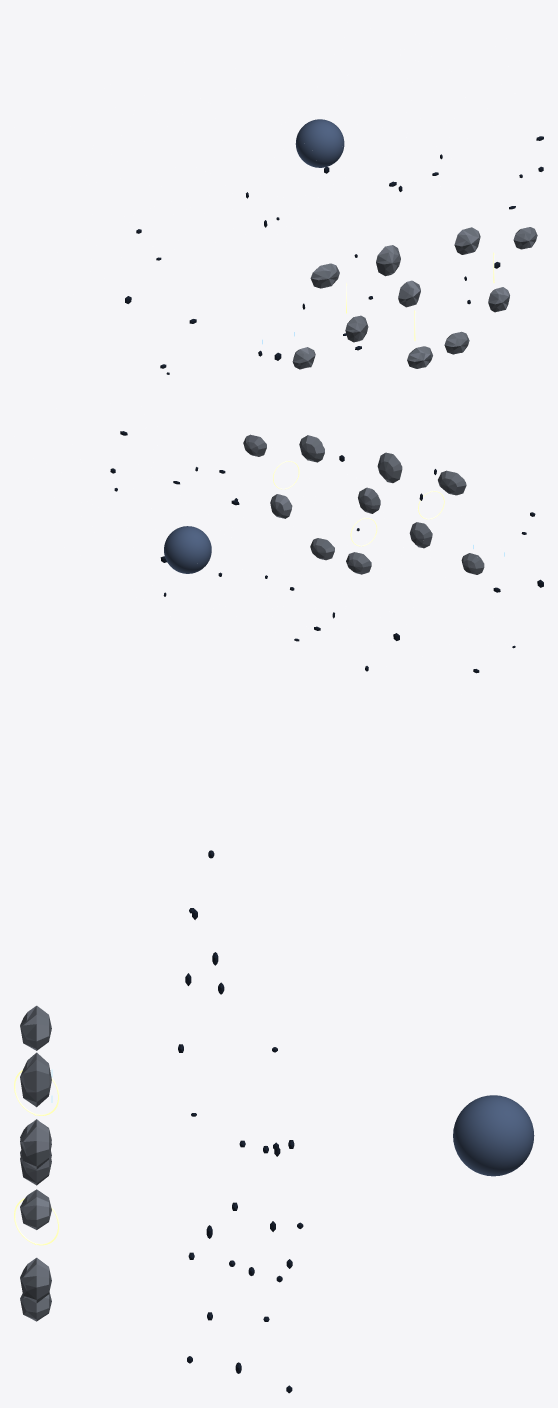
Rendered from 12-drift.glb.
3 renders of one model, top to bottom at view 1: azimuth 30°, elevation 25°; view 2: azimuth 150°, elevation 25°; view 3: azimuth 270°, elevation 25°, orthographic. The views are drawn at different scales.
Visible parts, largest first — view 1: planet_horizon, meteor_04, meteor_08, meteor_02, meteor_03, meteor_05, meteor_06, meteor_09, meteor_07; view 2: planet_horizon, meteor_04, meteor_08, meteor_02, meteor_03, meteor_05, meteor_06, meteor_09, meteor_07, meteor_10, meteor_01; view 3: planet_horizon, meteor_04, meteor_08, meteor_09, meteor_02, meteor_10.
Boxes of the visible parts, bbox=[...] form: planet_horizon: bbox=[295, 119, 344, 167]; meteor_04: bbox=[376, 245, 400, 276]; meteor_08: bbox=[454, 227, 480, 254]; meteor_02: bbox=[310, 263, 339, 288]; meteor_03: bbox=[345, 315, 368, 342]; meteor_05: bbox=[398, 280, 420, 307]; meteor_06: bbox=[407, 346, 432, 368]; meteor_09: bbox=[488, 287, 509, 312]; meteor_07: bbox=[444, 331, 469, 354]; planet_horizon: bbox=[164, 526, 211, 573]; meteor_04: bbox=[377, 452, 402, 483]; meteor_08: bbox=[299, 435, 324, 462]; meteor_02: bbox=[438, 470, 466, 495]; meteor_03: bbox=[409, 522, 432, 548]; meteor_05: bbox=[358, 487, 380, 513]; meteor_06: bbox=[346, 552, 371, 574]; meteor_09: bbox=[270, 494, 292, 518]; meteor_07: bbox=[310, 538, 334, 560]; meteor_10: bbox=[243, 434, 266, 456]; meteor_01: bbox=[461, 553, 484, 574]; planet_horizon: bbox=[453, 1095, 534, 1176]; meteor_04: bbox=[20, 1052, 51, 1107]; meteor_08: bbox=[20, 1119, 51, 1169]; meteor_09: bbox=[20, 1257, 51, 1303]; meteor_02: bbox=[20, 1005, 51, 1050]; meteor_10: bbox=[20, 1189, 51, 1229].
Size of what is drawn, in the model's own units: 89.34 by 44.96 by 52.2.
